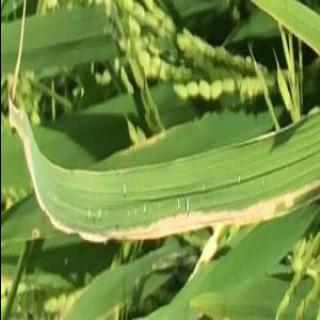Hawar-Daun: (31, 174, 319, 242)
